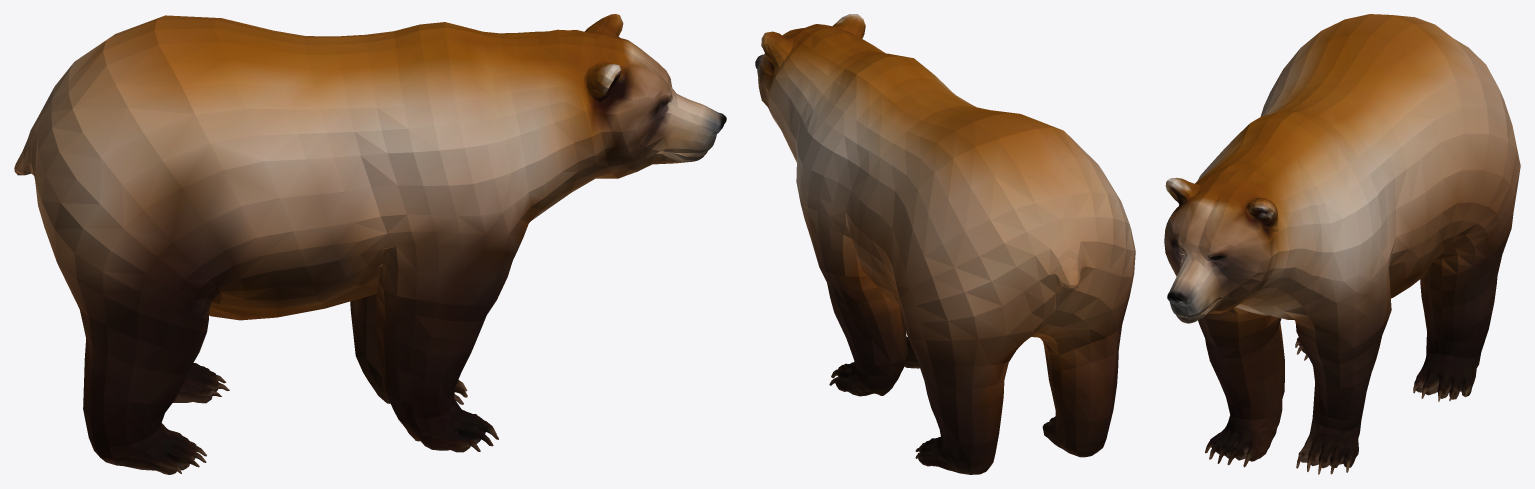
File: brownbear.mesh.glb
3 renders of one model, left to right at view 1: azimuth 30°, elevation 25°; view 2: azimuth 150°, elevation 25°; view 3: azimuth 270°, elevation 25°, orthographic. The views are drawn at different scales.
Parts seen in each view (by area): view 1: root; view 2: root; view 3: root.
Part boxes in pixels (x1=…): root: x1=14, y1=14, x2=726, y2=474; root: x1=755, y1=14, x2=1135, y2=474; root: x1=1164, y1=14, x2=1520, y2=474.
Size of the model in its own units: 0.572 by 0.3926 by 0.3608.
1 material, 1 textured.
